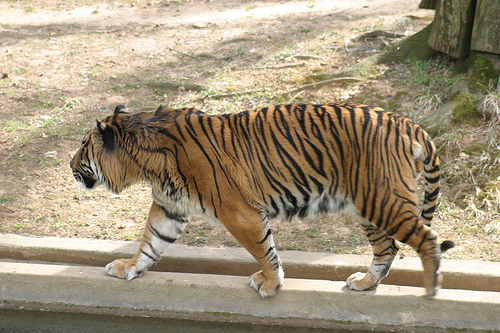Tigre: (48, 88, 455, 302)
